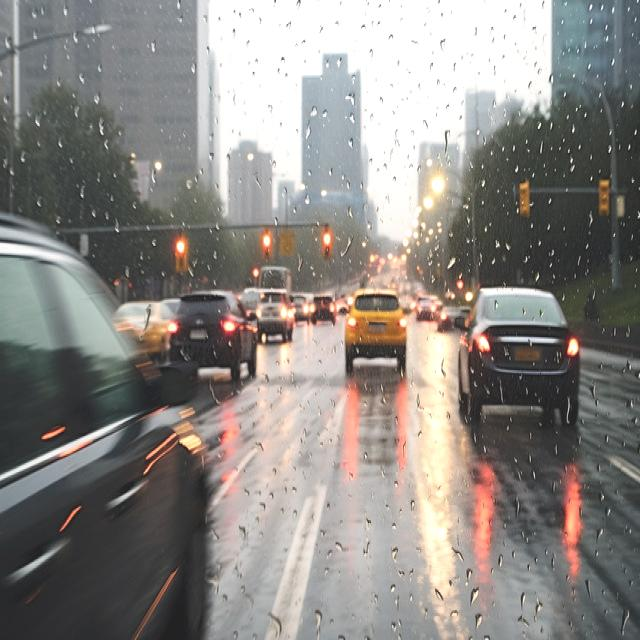Vehicle: (457, 260, 588, 468), (171, 284, 253, 391), (348, 280, 413, 400), (258, 280, 296, 346), (306, 284, 342, 334)
